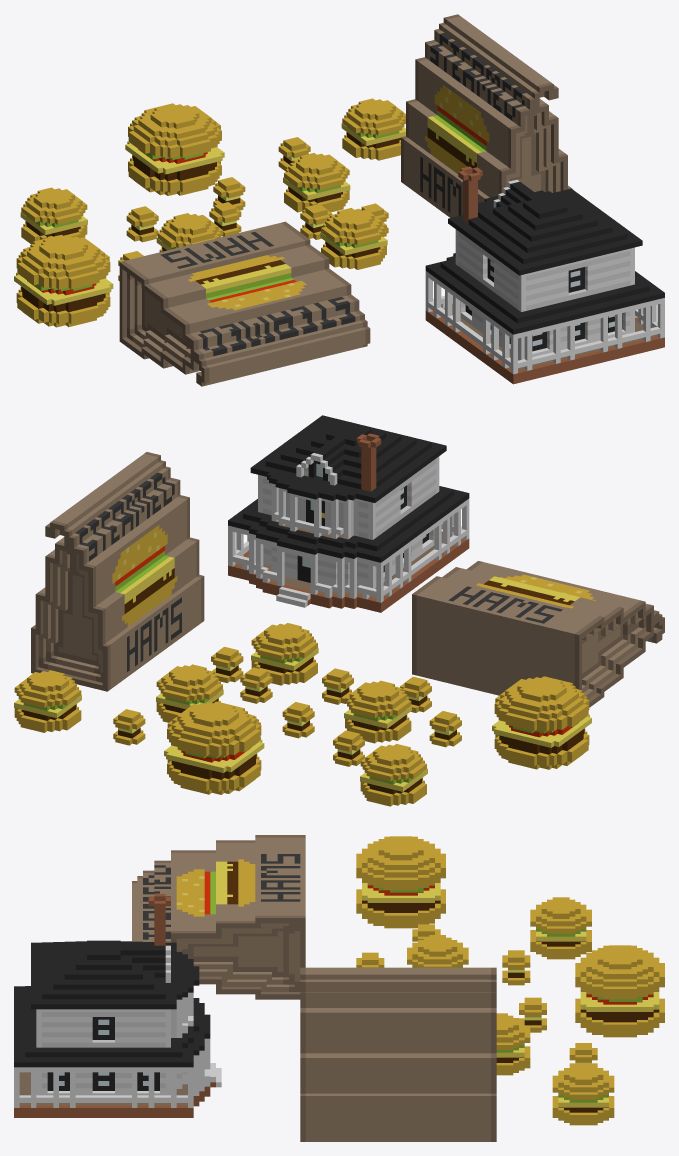
File: burgers-1.obj
3 views of the same model, one above another, from view 1: azimuth 30°, elevation 25°; view 2: azimuth 150°, elevation 25°; view 3: azimuth 270°, elevation 25° (orthographic). The views are drawn at different scales.
Parts seen in each view (by area): view 1: burgers-1; view 2: burgers-1; view 3: burgers-1.
Part boxes in pixels (x1=…): burgers-1: x1=14, y1=14, x2=664, y2=386; burgers-1: x1=14, y1=415, x2=664, y2=806; burgers-1: x1=14, y1=835, x2=664, y2=1141.
Bounding box in the file's own units: 105 × 31 × 116.
1 material, 1 textured.
